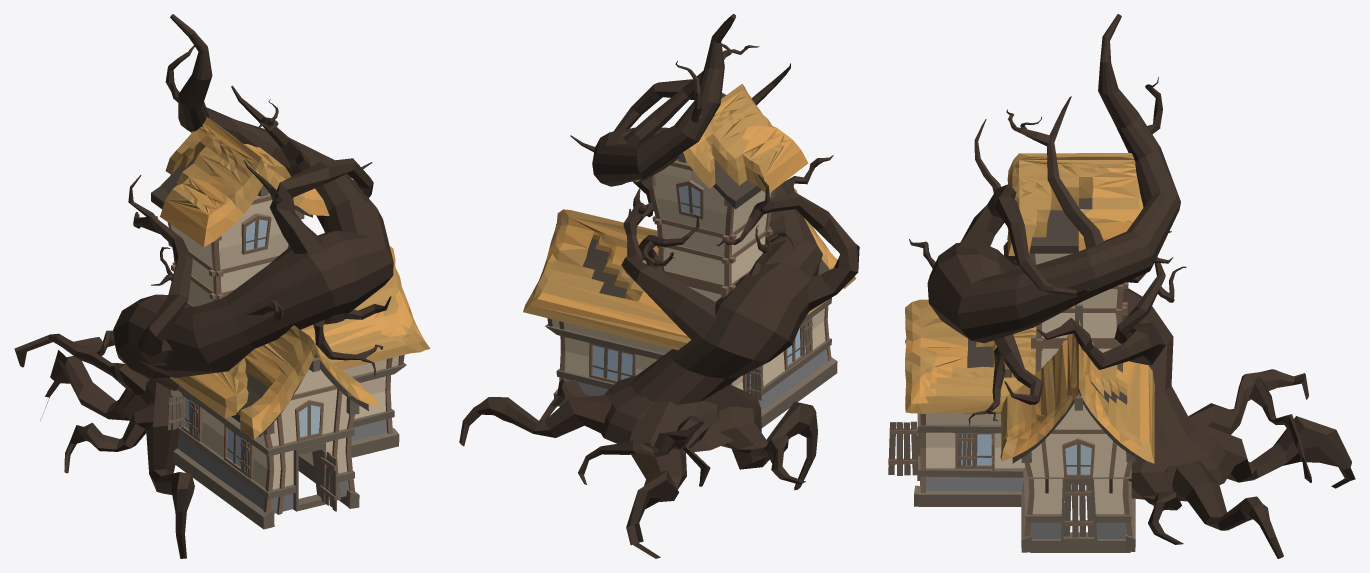
File: 1_house_02FREE.fbx
3 renders of one model, left to right at view 1: azimuth 30°, elevation 25°; view 2: azimuth 150°, elevation 25°; view 3: azimuth 270°, elevation 25°, orthographic. The views are drawn at different scales.
Visible parts, largest first — view 1: Cube, Cube.002, Cube.007; view 2: Cube; view 3: Cube, Cube.002, Cube.001, Cube.004.
Boxes of the visible parts, x1,y1,x2,y2 form: Cube: (14,14,430,558); Cube.002: (319,449,338,511); Cube.007: (167,395,184,430); Cube: (459,14,859,558); Cube: (905,14,1355,558); Cube.002: (888,421,917,475); Cube.001: (1063,484,1094,537); Cube.004: (957,433,976,466).
Size of the model in its own units: 2017 by 3334 by 2707.
